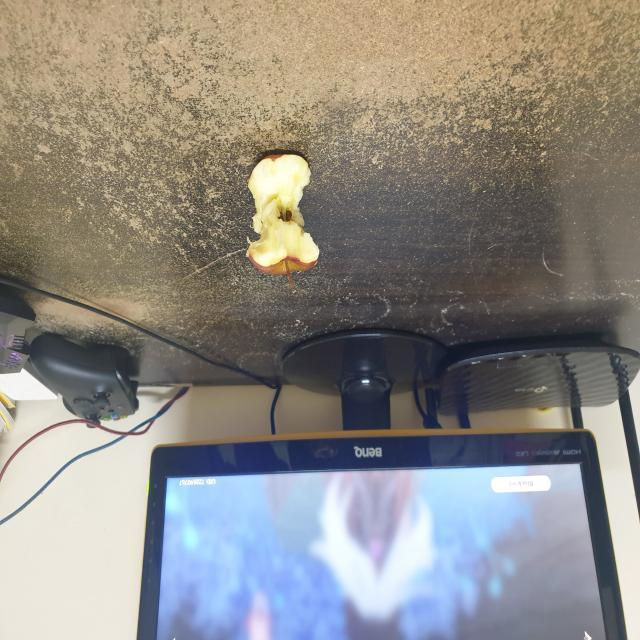apple: (234, 142, 334, 292)
